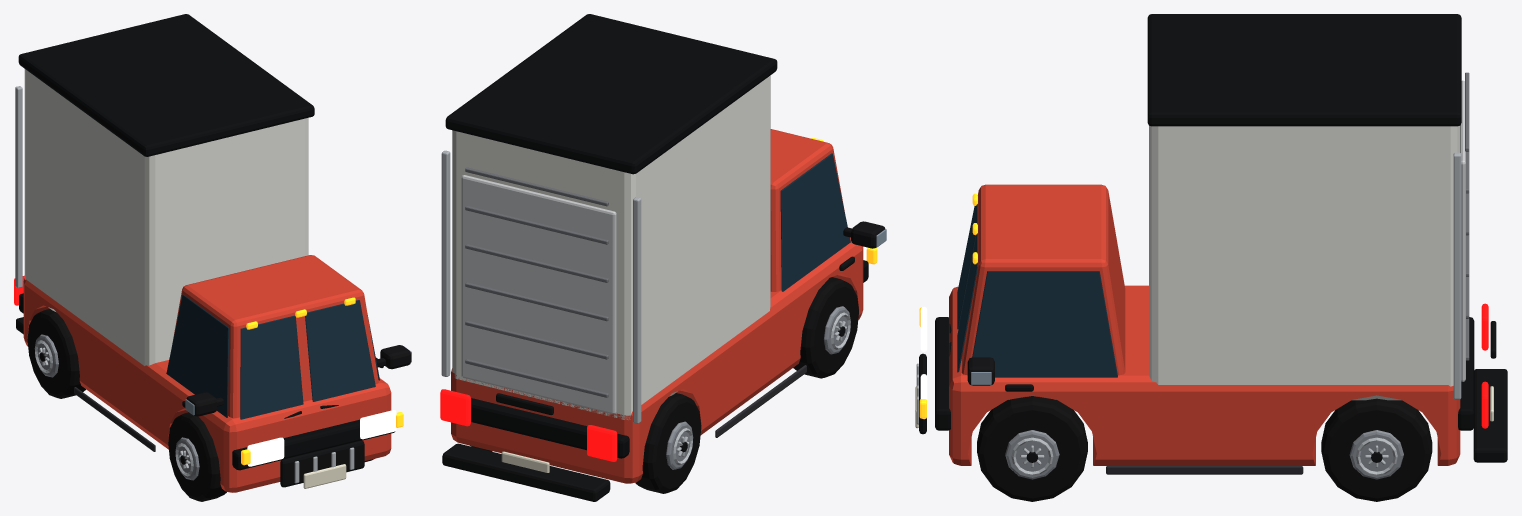
Rendered from delivery.glb.
3 views of the same model, side by side, from view 1: azimuth 30°, elevation 25°; view 2: azimuth 150°, elevation 25°; view 3: azimuth 270°, elevation 25° (orthographic). The views are drawn at different scales.
Parts seen in each view (by area): view 1: Delivery_CargoBody, Delivery_CargoRoofCap, Delivery_LowerBody, Delivery_CabShell, DeliveryCab_FrontWindshield_L_R6, DeliveryCab_FrontWindshield_R_R6, DeliveryCab_SideWindow_L_R6, Delivery_Wheel_Front_L_R3, Delivery_Wheel_Rear_L_R3, Delivery_FrontBumper, V03_Delivery_FrontGrille, V03_Delivery_CargoCorner_L (+8 smaller); view 2: Delivery_CargoBody, Delivery_CargoRoofCap, Delivery_RearRollDoor, Delivery_LowerBody, DeliveryCab_SideWindow_L_R6, V03_Delivery_RearStep, Delivery_CabShell, Delivery_Wheel_Rear_L_R3, Delivery_Wheel_Front_L_R3, Delivery_RearBumper, V03_Delivery_CargoCorner_R, V03_Delivery_CargoCorner_L (+14 smaller); view 3: Delivery_CargoBody, Delivery_CargoRoofCap, Delivery_LowerBody, Delivery_CabShell, DeliveryCab_SideWindow_R_R6, Delivery_Wheel_Front_R_R3, Delivery_Wheel_Rear_R_R3, V03_Delivery_RearStep, V03_Delivery_CargoCorner_R, V03_Delivery_RockerTrim_R, Delivery_FrontBumper, Delivery_Wheel_Rear_R_R3_Hub (+5 smaller).
Part boxes in pixels (x1,y1,x2,y2): Delivery_CargoBody: (24,69,308,365); Delivery_CargoRoofCap: (18,14,314,156); Delivery_LowerBody: (23,278,391,492); Delivery_CabShell: (172,255,378,418); DeliveryCab_FrontWindshield_L_R6: (240,315,303,419); DeliveryCab_FrontWindshield_R_R6: (305,300,375,401); DeliveryCab_SideWindow_L_R6: (166,294,228,417); Delivery_Wheel_Front_L_R3: (168,412,226,501); Delivery_Wheel_Rear_L_R3: (27,309,85,398); Delivery_FrontBumper: (232,419,395,470); V03_Delivery_FrontGrille: (280,440,364,487); V03_Delivery_CargoCorner_L: (15,86,22,288); Delivery_CargoBody: (452,75,770,419); Delivery_CargoRoofCap: (445,14,777,174); Delivery_RearRollDoor: (461,175,616,414); Delivery_LowerBody: (451,237,863,483); DeliveryCab_SideWindow_L_R6: (780,153,850,291); V03_Delivery_RearStep: (442,443,610,501); Delivery_CabShell: (770,129,844,291); Delivery_Wheel_Rear_L_R3: (635,393,701,493); Delivery_Wheel_Front_L_R3: (793,277,858,378); Delivery_RearBumper: (471,398,629,458); V03_Delivery_CargoCorner_R: (441,150,450,376); V03_Delivery_CargoCorner_L: (633,197,641,423); Delivery_CargoBody: (1149,125,1460,400); Delivery_CargoRoofCap: (1147,14,1461,126); Delivery_LowerBody: (949,285,1460,465); Delivery_CabShell: (961,184,1125,399); DeliveryCab_SideWindow_R_R6: (972,271,1117,377); Delivery_Wheel_Front_R_R3: (977,396,1087,501); Delivery_Wheel_Rear_R_R3: (1321,398,1432,501); V03_Delivery_RearStep: (1473,369,1507,462); V03_Delivery_CargoCorner_R: (1453,152,1461,399); V03_Delivery_RockerTrim_R: (1106,466,1303,474); Delivery_FrontBumper: (935,317,950,430); Delivery_Wheel_Rear_R_R3_Hub: (1349,430,1403,479).
Bounding box in the file's own units: 1.81 × 2.51 × 3.47.
